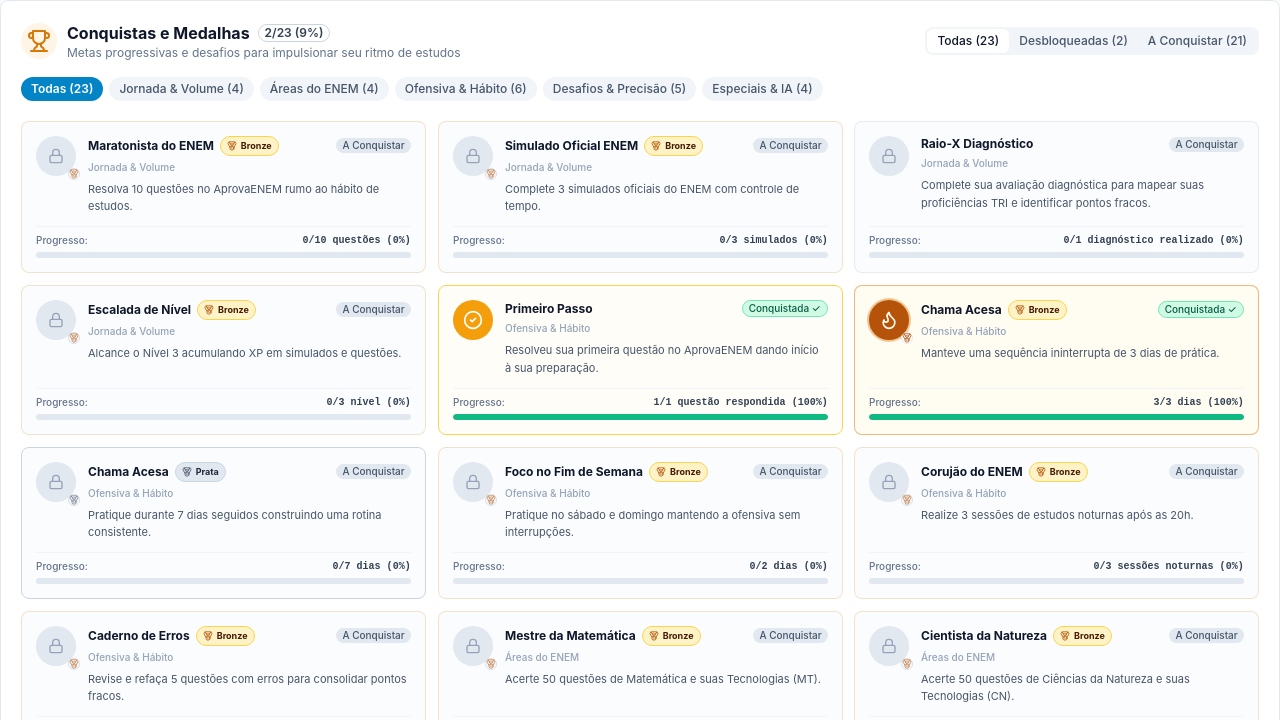
Test: BadgeShelf Component › filters badges based on active status filter tab
The image size is (1280, 720).
Expected: the text "Primeiro Passo" is shown once, [505,301,592,317]
Expected: the text "Chama Acesa" is shown 2 times, [921,302,1002,318]; [88,464,169,480]
Click "Desbloqueadas": only completed cards (Primeiro Passo & Chama Acesa Bronze)
Click the tab "Desbloqueadas (2)".
click(1074, 41)  # box [1009,29,1138,53]
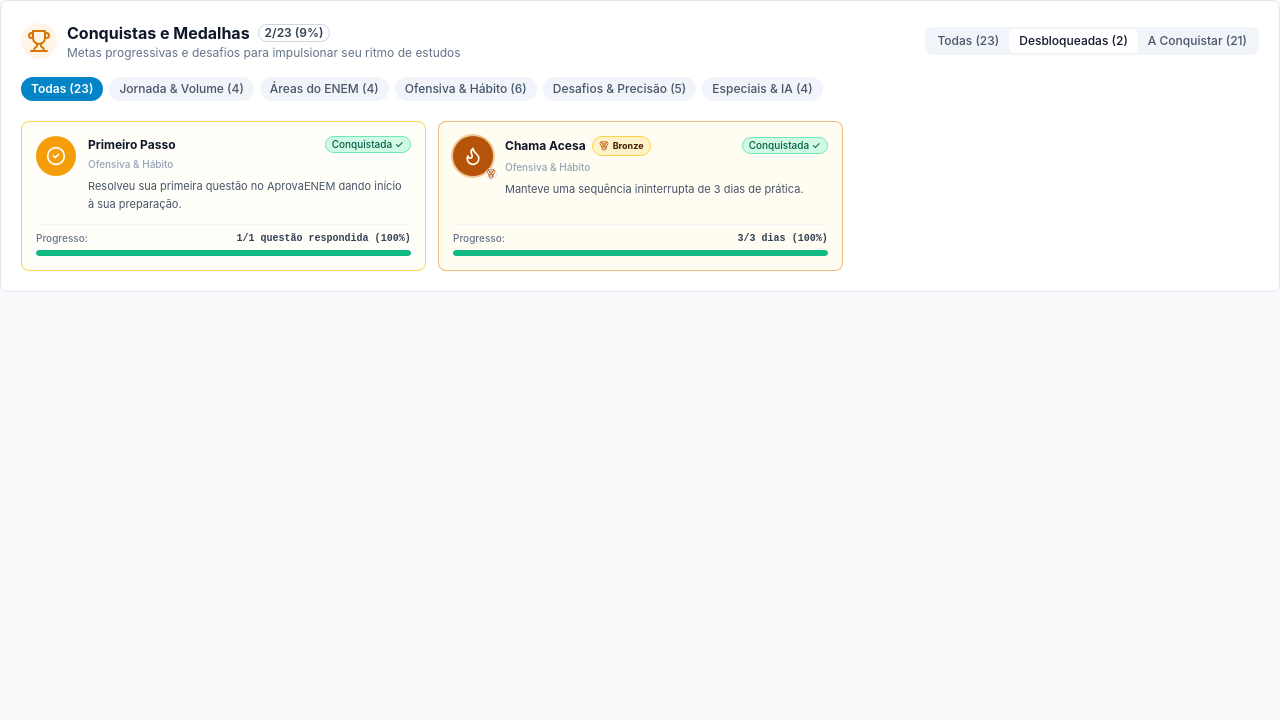
Expected: the text "Primeiro Passo" is shown, [88,136,176,152]
Now the text "Prata" is gone
Click "A Conquistar": spawned incomplete cards (Chama Acesa Prata, but no Primeiro Passo since it's conquered)
Click the tab "A Conquistar (21)".
click(1197, 41)  # box [1138,29,1257,53]
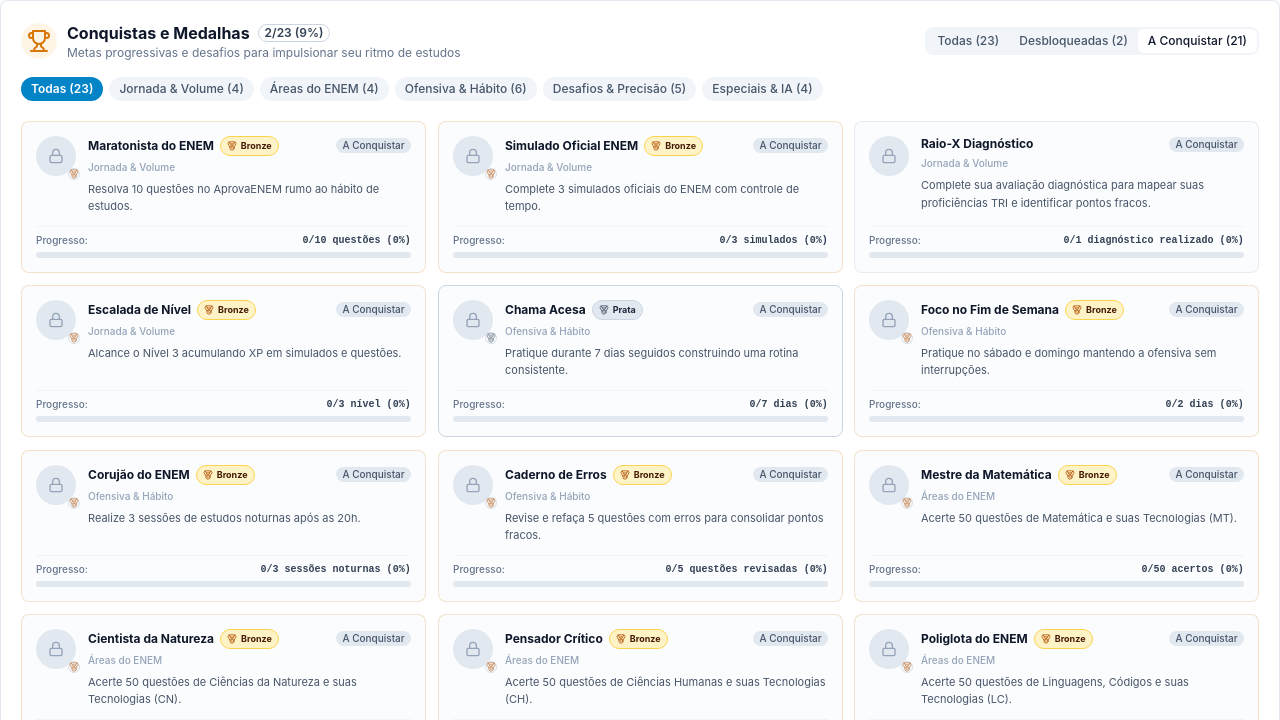
Expected: the text "Chama Acesa" is shown, [505,302,585,318]
Now the text "Primeiro Passo" is gone
Now the text "Prata" is shown, box [612,303,636,317]
